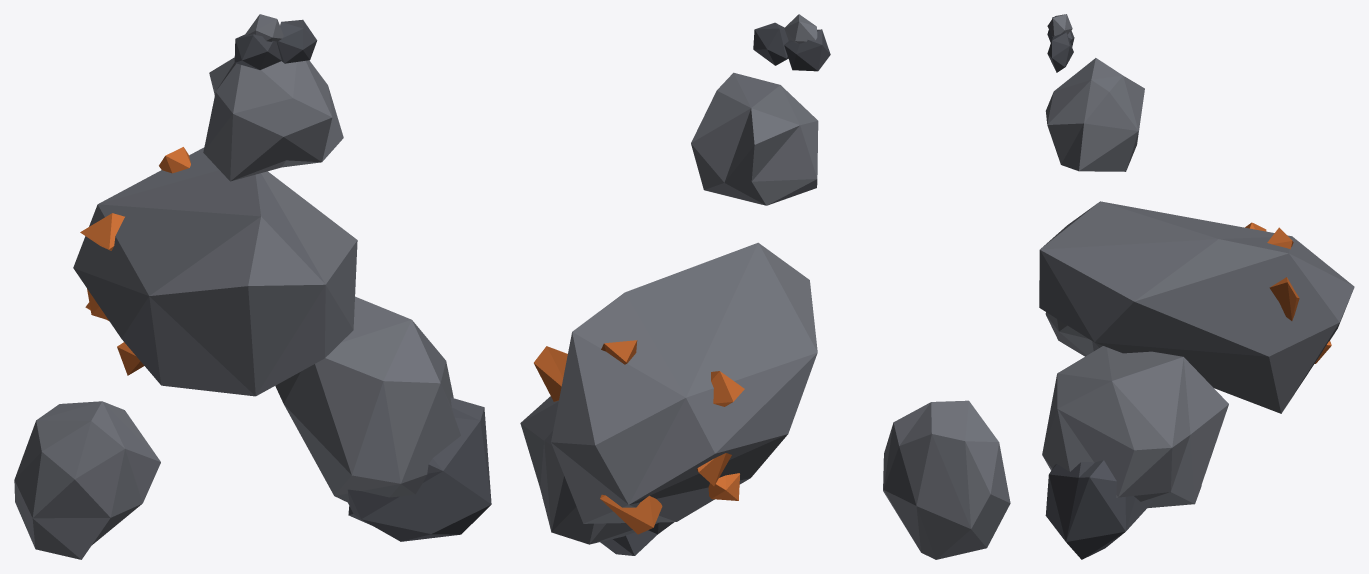
File: SM_Rock_Copper_02.fbx
The picture shows the model from 3 angles, left to right: view 1: azimuth 30°, elevation 25°; view 2: azimuth 150°, elevation 25°; view 3: azimuth 270°, elevation 25°; orthographic projection. The views are drawn at different scales.
Visible parts, largest first — view 1: fam_rock, fam_rock_dark, fam_copper; view 2: fam_rock, fam_copper, fam_rock_dark; view 3: fam_rock, fam_rock_dark, fam_copper.
Boxes of the visible parts, <box> form: fam_rock: <box>14,14,460,559</box>; fam_rock_dark: <box>234,19,491,541</box>; fam_copper: <box>80,147,190,375</box>; fam_rock: <box>520,14,1010,559</box>; fam_copper: <box>534,340,744,534</box>; fam_rock_dark: <box>600,22,830,555</box>; fam_rock: <box>1039,14,1354,508</box>; fam_rock_dark: <box>1045,17,1152,559</box>; fam_copper: <box>1245,222,1331,363</box>.
Bounding box in the file's own units: 9.22 × 11.11 × 6.78.
